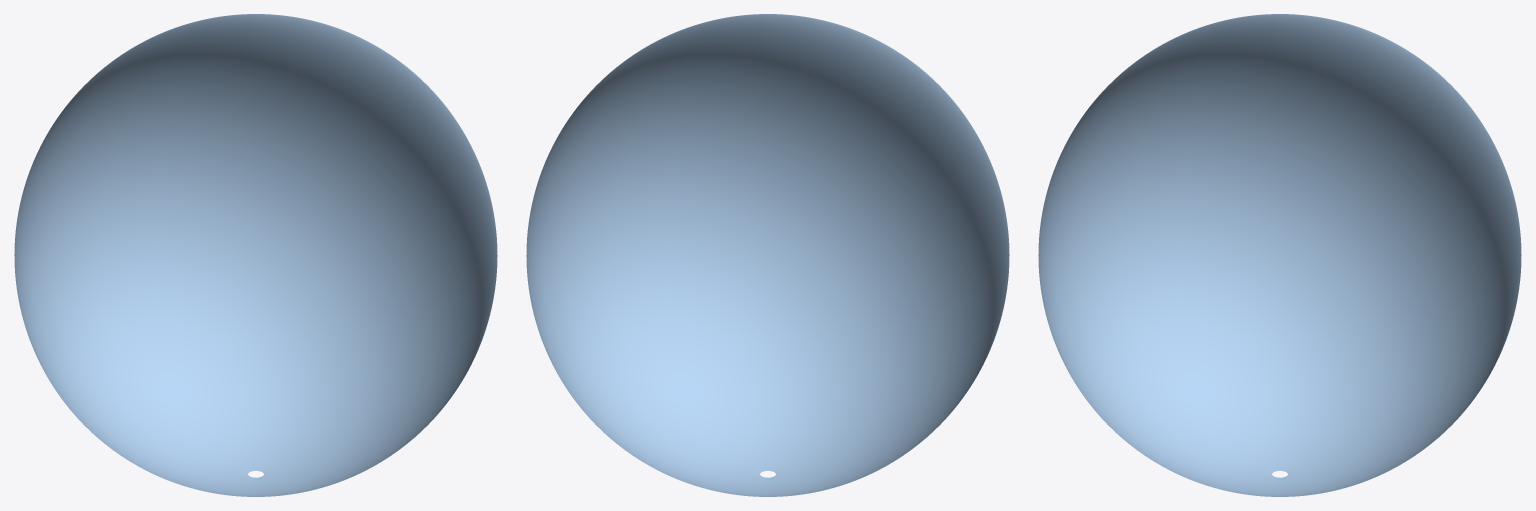
The model's file is oversized.glb.
3 renders of one model, left to right at view 1: azimuth 30°, elevation 25°; view 2: azimuth 150°, elevation 25°; view 3: azimuth 270°, elevation 25°, orthographic.
Visible parts, largest first — view 1: marguerite_code_crystal; view 2: marguerite_code_crystal; view 3: marguerite_code_crystal.
Boxes of the visible parts, x1,y1,x2,y2 form: marguerite_code_crystal: (14, 14, 497, 496); marguerite_code_crystal: (526, 14, 1009, 496); marguerite_code_crystal: (1038, 14, 1521, 496).
Bounding box in the file's own units: 1.1 × 1.1 × 1.1.
